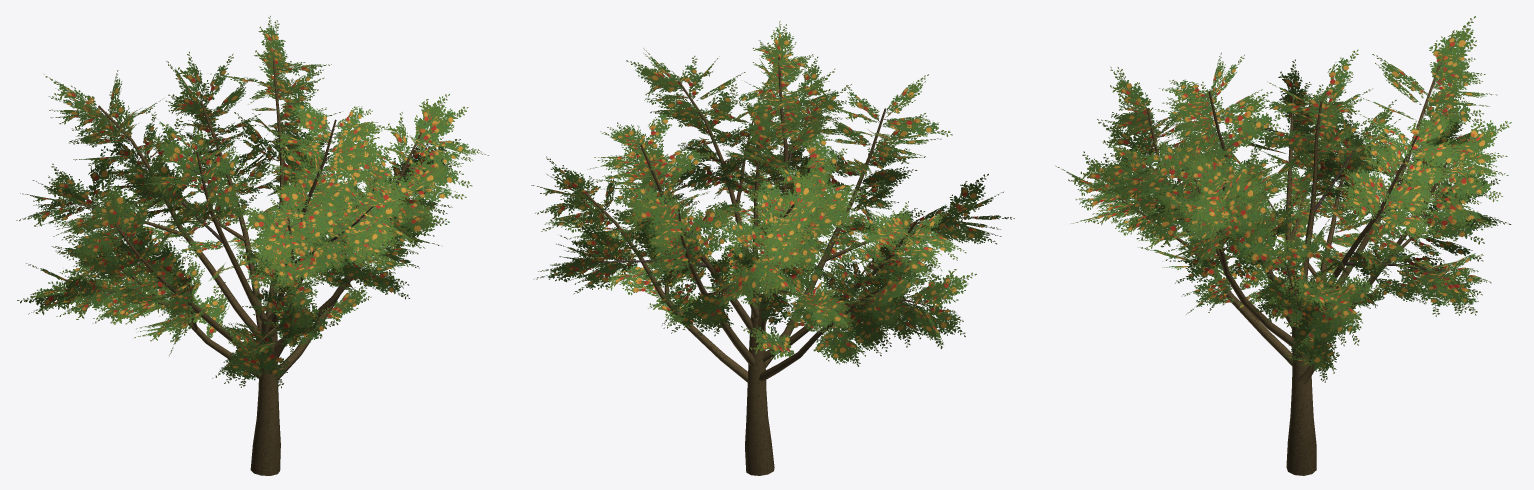
Rendered from apple.glb.
3 renders of one model, left to right at view 1: azimuth 30°, elevation 25°; view 2: azimuth 150°, elevation 25°; view 3: azimuth 270°, elevation 25°, orthographic. The views are drawn at different scales.
Parts seen in each view (by area): view 1: apple; view 2: apple; view 3: apple.
Boxes of the visible parts, bbox=[...] form: apple: bbox=[16, 16, 488, 475]; apple: bbox=[531, 21, 1014, 475]; apple: bbox=[1055, 16, 1511, 475].
Bounding box in the file's own units: 6.07 × 5.32 × 5.39.
Materials: 3 (2 with a texture image).
